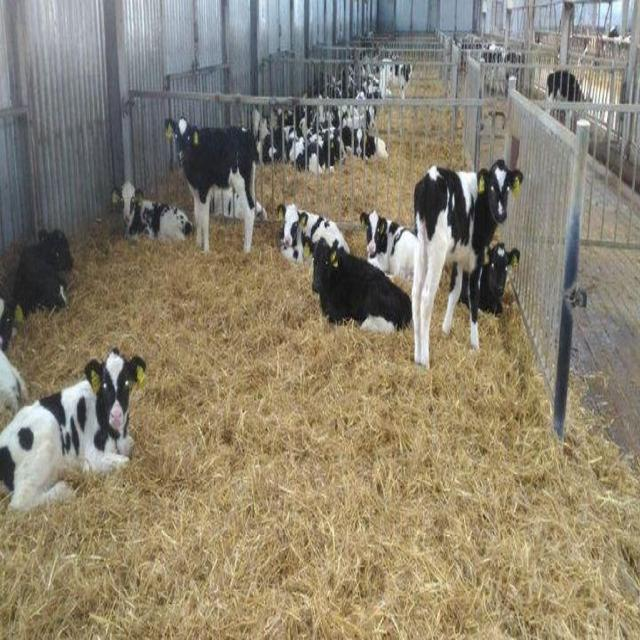cow: (0, 344, 146, 513), (411, 156, 523, 369), (359, 208, 518, 318), (164, 113, 262, 254), (546, 68, 638, 192), (312, 236, 412, 334), (0, 226, 73, 352), (110, 178, 192, 242), (276, 201, 350, 265)
